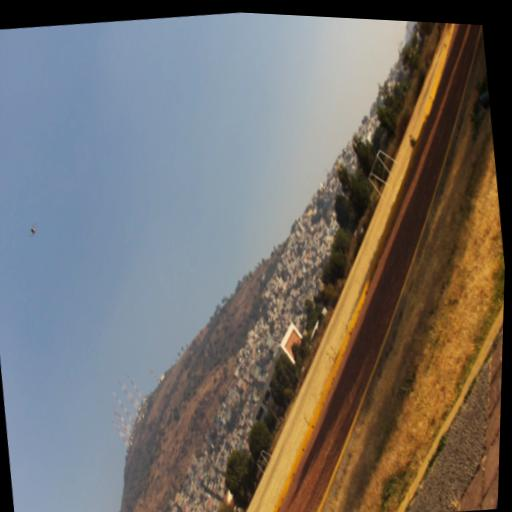drones: (26, 219, 41, 241)
